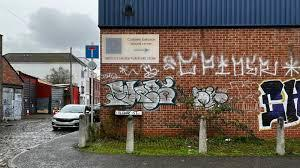graffiti: (159, 54, 283, 76), (104, 74, 179, 110), (258, 80, 300, 130), (192, 86, 230, 109), (122, 64, 159, 79), (282, 57, 300, 81)
